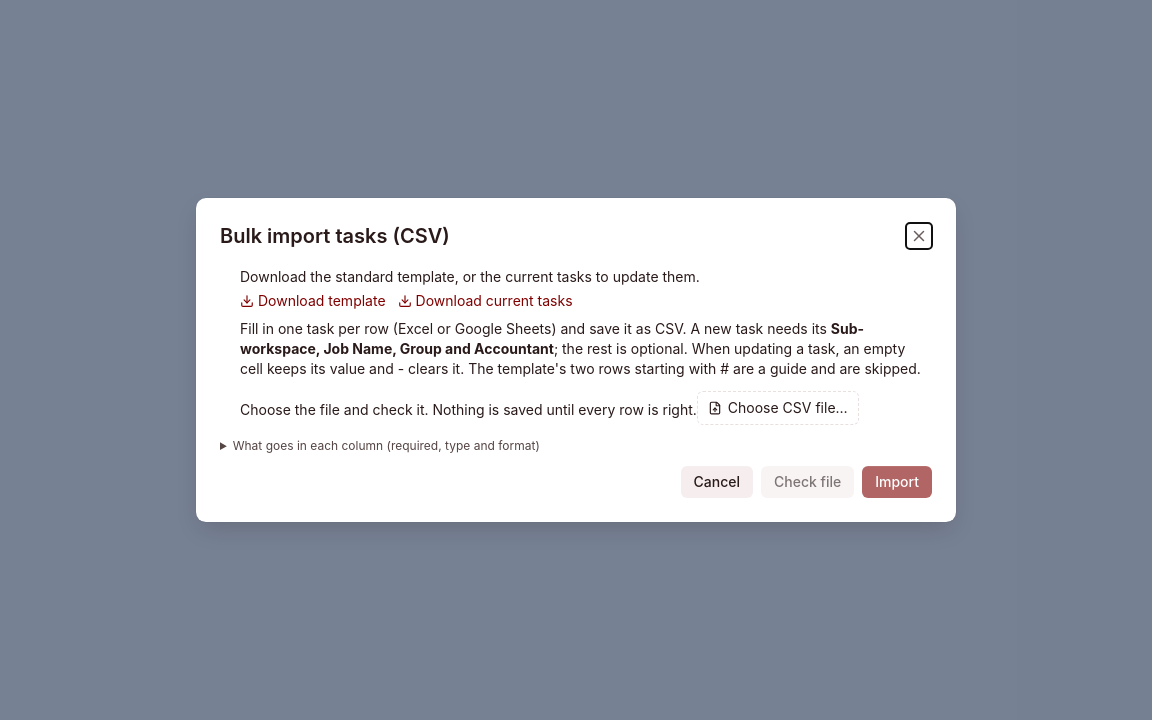
Test: Bulk import tasks › the column guide says what is required, and each type and format
This screenshot has width=1152, height=720.
Step 1. Click the heading "What goes in each column (required, type and format)" → x=386, y=445, box [233, 438, 540, 453]
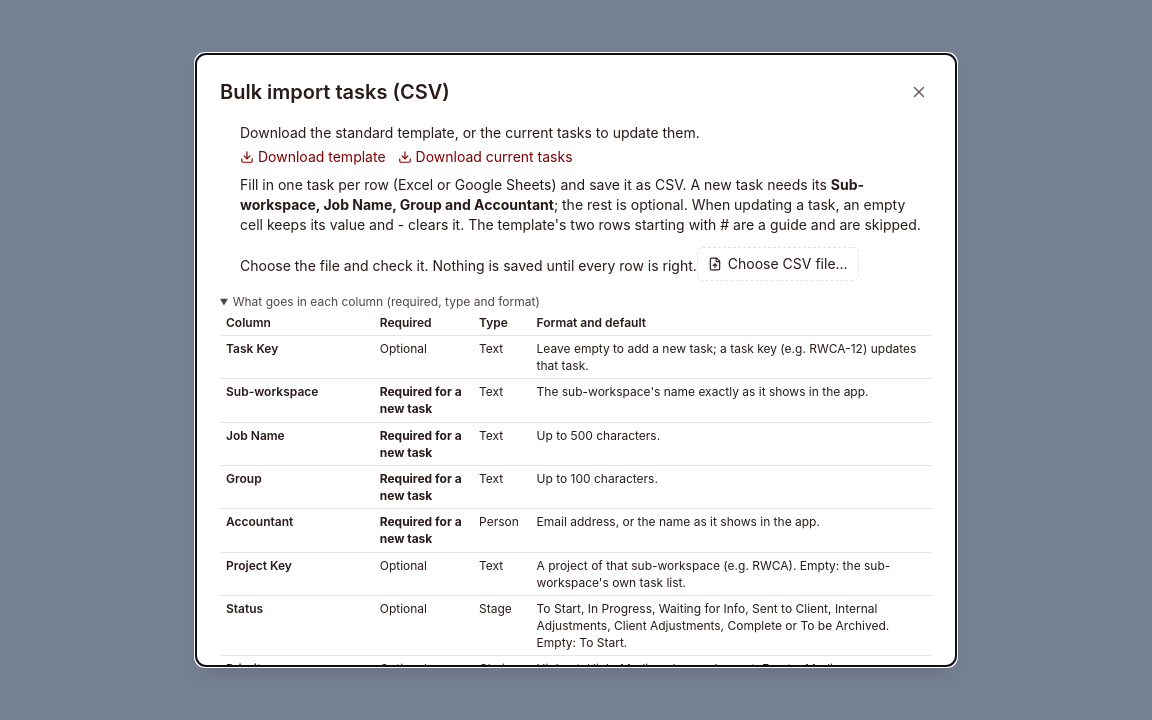
Now the row "Project Key" shows "Optional", box [380, 558, 427, 573]
